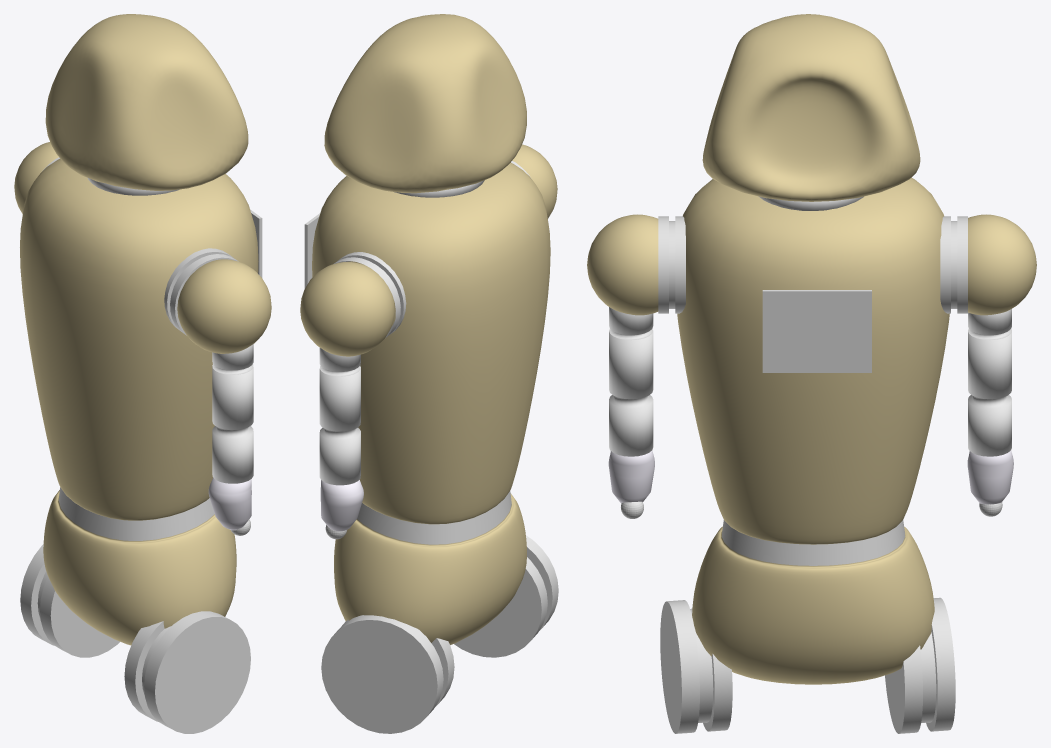
The model's file is robot5.fbx.
3 views of the same model, side by side, from view 1: azimuth 30°, elevation 25°; view 2: azimuth 150°, elevation 25°; view 3: azimuth 270°, elevation 25° (orthographic). The views are drawn at different scales.
Parts seen in each view (by area): view 1: Cube.001, Cube, Cylinder.008, Sphere.001, Cylinder.005, Cylinder.007, Cube.003, Cylinder.006, Cylinder.004, Sphere, Cylinder; view 2: Cube.001, Cube, Cylinder.007, Sphere, Cylinder.002, Cylinder.008, Cube.003, Cylinder.003, Sphere.001, Cylinder.001, Cube.002, Cylinder.009 (+1 smaller); view 3: Cube.001, Cube, Cube.002, Cylinder.005, Cylinder.002, Sphere.001, Cylinder.008, Sphere, Cylinder.007, Cube.003, Cylinder.004, Cylinder.001 (+5 smaller).
Boxes of the visible parts, bbox=[...] form: Cube.001: bbox=[20, 158, 258, 645]; Cube: bbox=[45, 14, 248, 190]; Cylinder.008: bbox=[124, 611, 250, 733]; Sphere.001: bbox=[177, 259, 271, 353]; Cylinder.005: bbox=[212, 344, 253, 483]; Cylinder.007: bbox=[20, 544, 119, 657]; Cube.003: bbox=[58, 487, 214, 540]; Cylinder.006: bbox=[208, 477, 251, 530]; Cylinder.004: bbox=[164, 248, 238, 335]; Sphere: bbox=[14, 142, 58, 213]; Cylinder: bbox=[87, 178, 179, 195]; Cube.001: bbox=[312, 162, 550, 644]; Cube: bbox=[324, 14, 526, 193]; Cylinder.007: bbox=[321, 615, 454, 733]; Sphere: bbox=[300, 262, 394, 356]; Cylinder.002: bbox=[319, 348, 360, 485]; Cylinder.008: bbox=[454, 535, 558, 657]; Cube.003: bbox=[357, 491, 511, 544]; Cylinder.003: bbox=[320, 480, 363, 531]; Sphere.001: bbox=[512, 144, 557, 218]; Cylinder.001: bbox=[334, 252, 406, 337]; Cube.002: bbox=[304, 213, 320, 288]; Cylinder.009: bbox=[527, 547, 552, 630]; Cube.001: bbox=[677, 177, 949, 684]; Cube: bbox=[702, 14, 920, 201]; Cube.002: bbox=[762, 290, 871, 372]; Cylinder.005: bbox=[609, 307, 653, 456]; Cylinder.002: bbox=[968, 309, 1011, 456]; Sphere.001: bbox=[587, 214, 658, 315]; Cylinder.008: bbox=[660, 600, 732, 733]; Sphere: bbox=[968, 214, 1036, 315]; Cylinder.007: bbox=[885, 597, 955, 733]; Cube.003: bbox=[722, 520, 905, 565]; Cylinder.004: bbox=[658, 216, 685, 313]; Cylinder.001: bbox=[940, 216, 967, 313].
Size of the model in its own units: 206 by 665 by 386.
